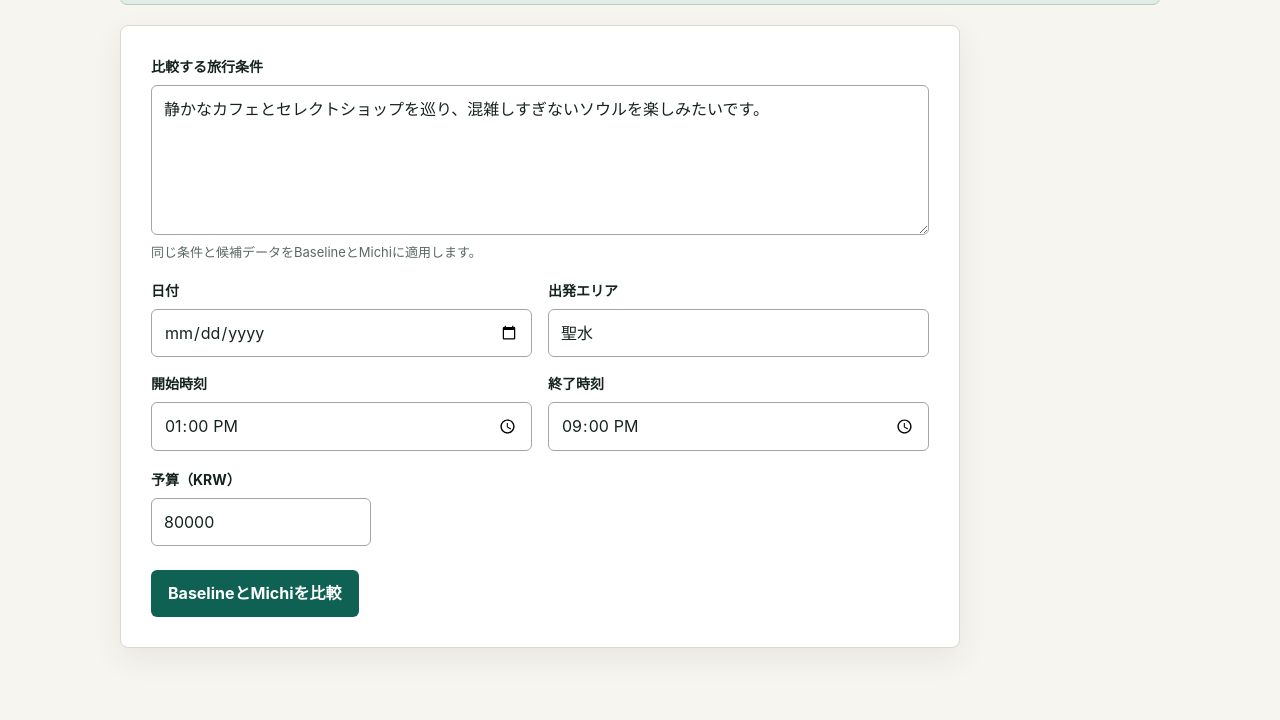
evaluation page › preserves the input and shows a backend error
(page scrolled)
What coordinates should you click on to do the following:
click the button "BaselineとMichiを比較"
I would click on:
 (255, 594)
Its box is [151,570,358,617].
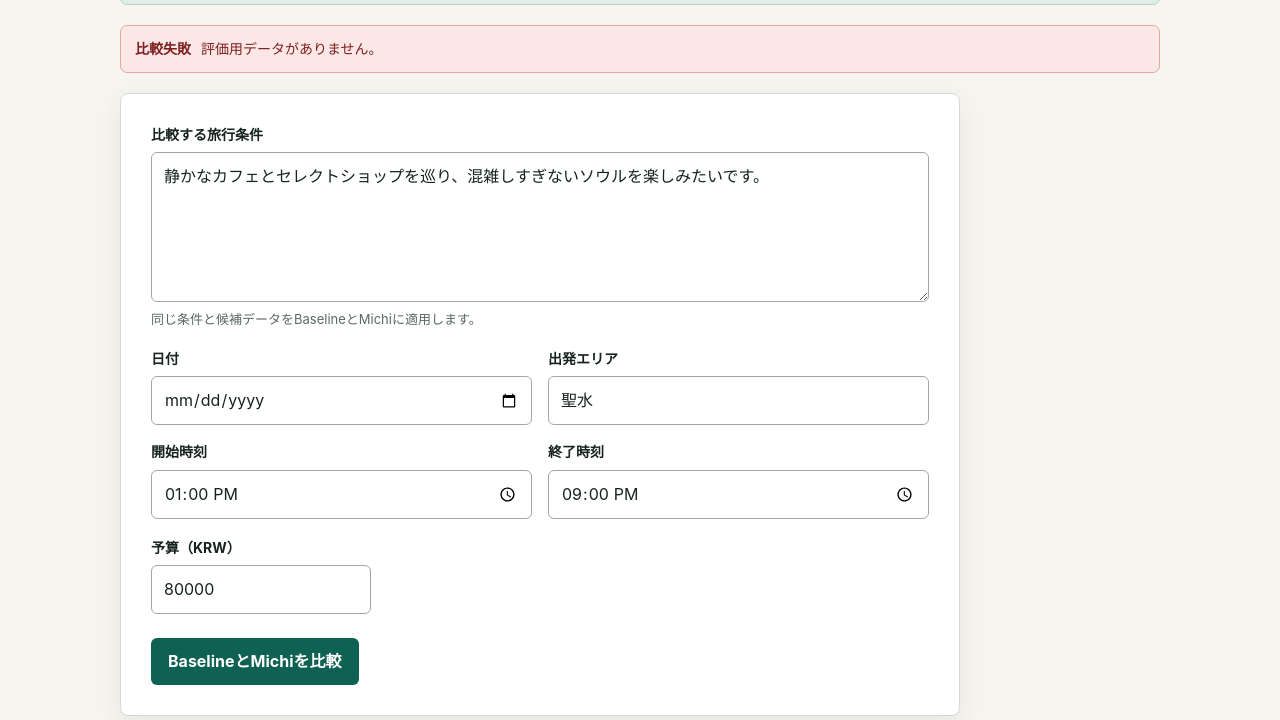
Expected: the text box labelled "比較する旅行条件" holds "静かなカフェとセレクトショップを巡り、混雑しすぎないソウルを楽しみたいです。", [151,152,929,302]
Expected: the message shows "評価用データがありません。", [201,40,383,57]
